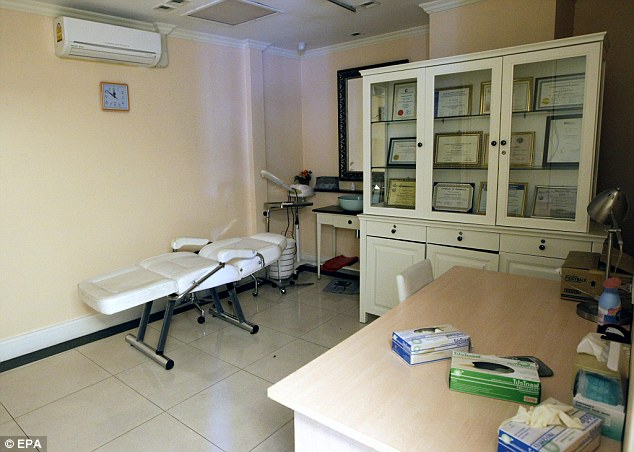cabinet: (357, 38, 608, 337)
chair: (396, 258, 435, 305)
exam_table: (78, 232, 286, 370)
handle: (537, 243, 546, 252), (456, 235, 465, 244), (389, 228, 398, 237), (489, 141, 498, 150), (344, 220, 353, 228), (415, 142, 424, 149), (501, 141, 506, 146)
sink: (338, 194, 363, 211)
table: (267, 266, 634, 452), (311, 205, 363, 281)
